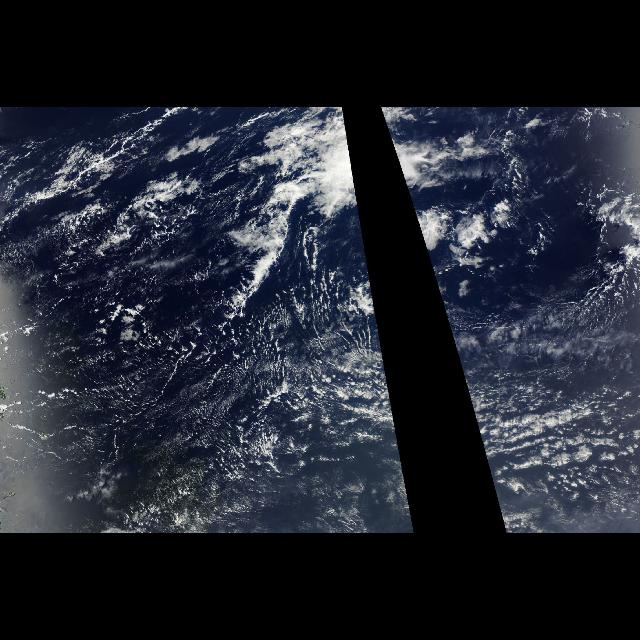Gravel: (233, 304, 393, 484)
Sugar: (1, 307, 226, 505)
